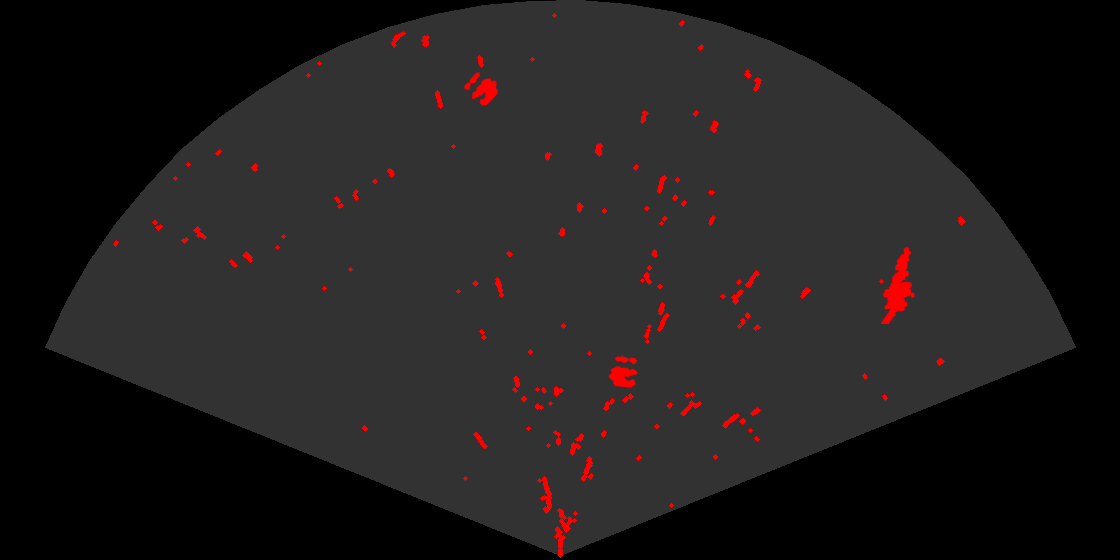ball: (463, 71, 500, 107), (607, 355, 640, 389)
frogman: (879, 245, 916, 324)
